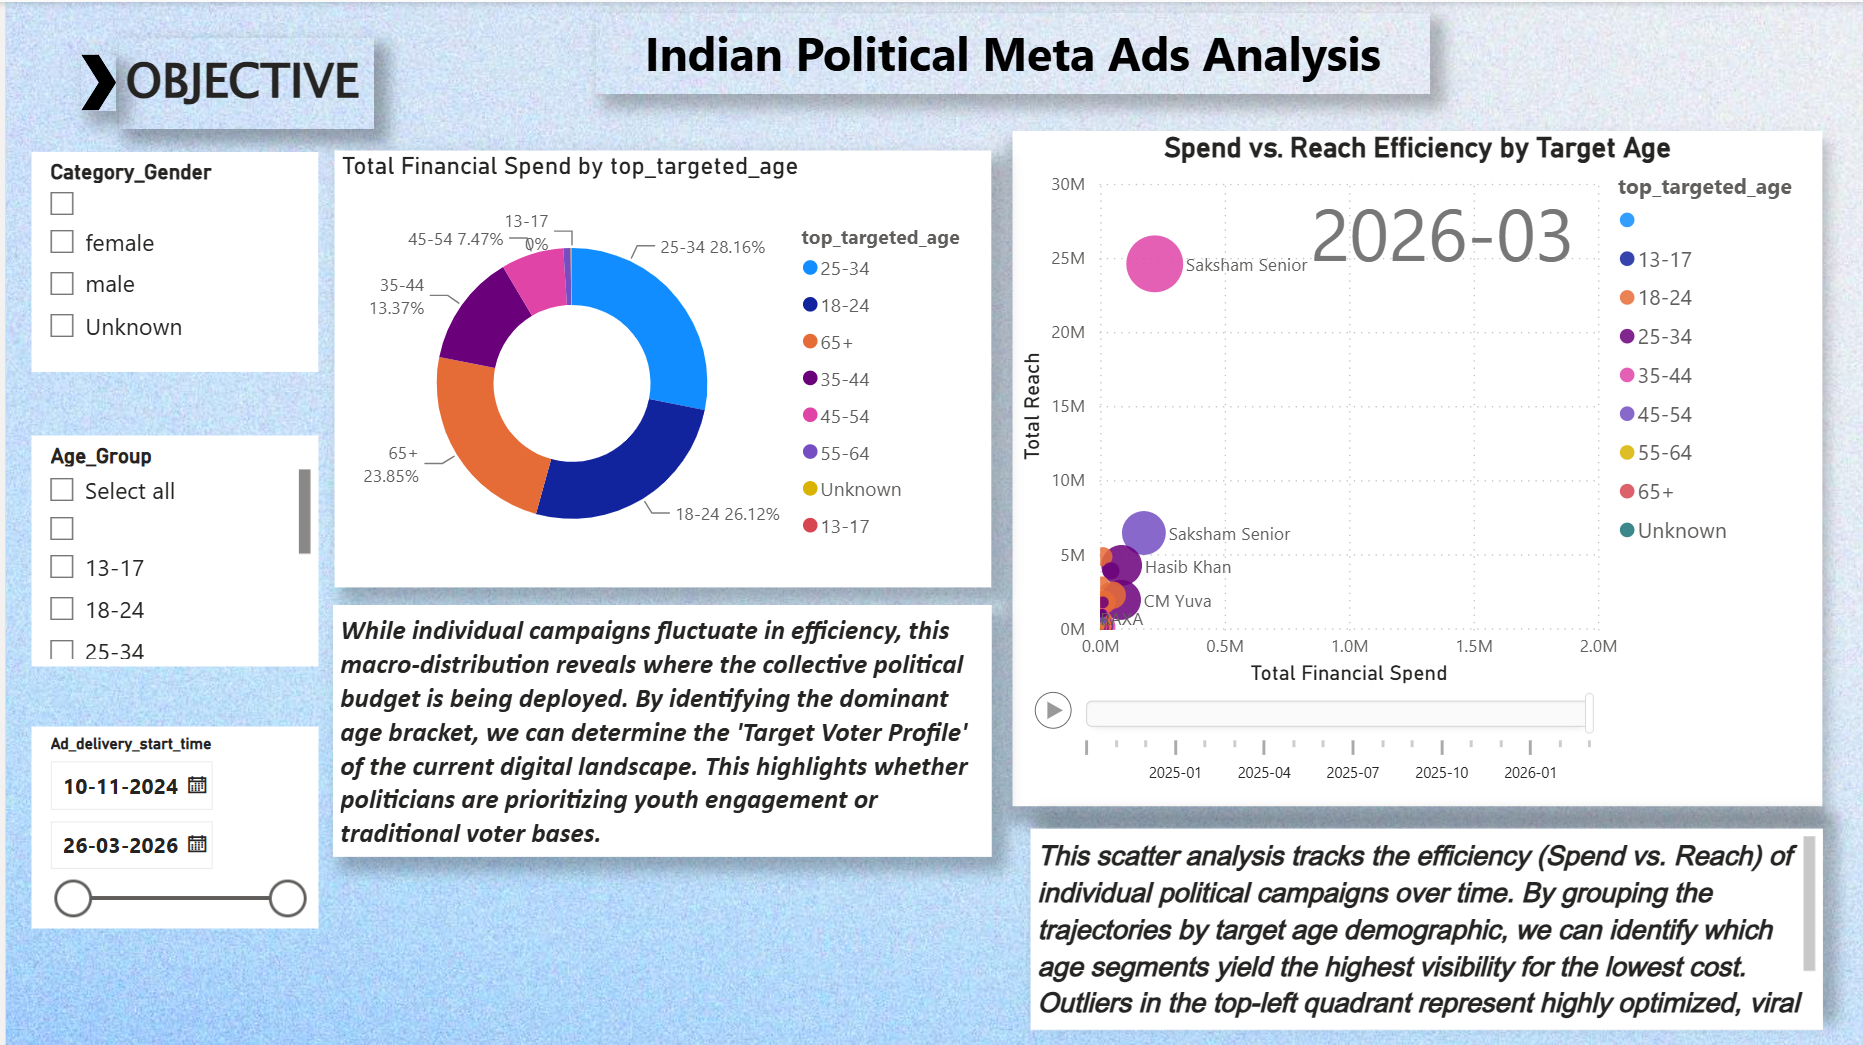

The page's visual inventory and layout, read from the dashboard file:
{"tool":"powerbi","page":{"name":"Analysis","canvas":[1280,720],"ordinal":1},"visuals":[{"type":"textbox","box":[405.7,7.1,574.3,55.7],"z":0},{"type":"textbox","box":[77.1,24.3,175.7,62.9],"z":1000},{"type":"shape","box":[51.4,35.7,24.3,38.6],"z":2000},{"type":"scatterChart","title":"Spend vs. Reach Efficiency by Target Age","fields":{"Category":["Dim_Advertiser.page_name"],"Play":["Fact_Ads.Year-Month"],"Series":["Fact_Ads.top_targeted_age"],"Size":["Sum(Fact_Ads.id)"],"X":["Fact_Ads.Total Financial Spend"],"Y":["Fact_Ads.Total Reach"]},"box":[692.4,88.5,557.6,464.9],"z":3000},{"type":"textbox","box":[705,568.3,545,138.3],"z":4000},{"type":"donutChart","fields":{"Category":["Fact_Ads.top_targeted_age"],"Y":["Fact_Ads.Total Financial Spend"]},"box":[226.1,102.5,452.3,300.6],"z":5000},{"type":"textbox","box":[225,415,453.3,173.3],"z":6000},{"type":"slicer","fields":{"Values":["Fact_Ads.ad_delivery_start_time"]},"box":[17.1,498.6,197.1,138.6],"z":7000},{"type":"slicer","fields":{"Values":["Fact_Ads.top_targeted_age"]},"box":[17.1,298.6,197.1,158.6],"z":8000},{"type":"slicer","fields":{"Values":["Fact_Ads.top_targeted_gender"]},"box":[17.1,102.9,197.1,151.4],"z":9000}]}

Visuals, with their boxes in screenshot pixels (x1, y1, x2, y2), scaled from the page's 1280x720 canvas onto the 1863x1045 screenshot:
textbox: box=[590, 10, 1426, 91]
textbox: box=[112, 35, 368, 127]
shape: box=[75, 52, 110, 108]
"Spend vs. Reach Efficiency by Target Age" scatterChart: box=[1008, 128, 1819, 803]
textbox: box=[1026, 825, 1819, 1026]
donutChart - Fact_Ads.top_targeted_age x Fact_Ads.Total Financial Spend: box=[329, 149, 987, 585]
textbox: box=[327, 602, 987, 854]
slicer - Fact_Ads.ad_delivery_start_time: box=[25, 724, 312, 925]
slicer - Fact_Ads.top_targeted_age: box=[25, 433, 312, 664]
slicer - Fact_Ads.top_targeted_gender: box=[25, 149, 312, 369]
